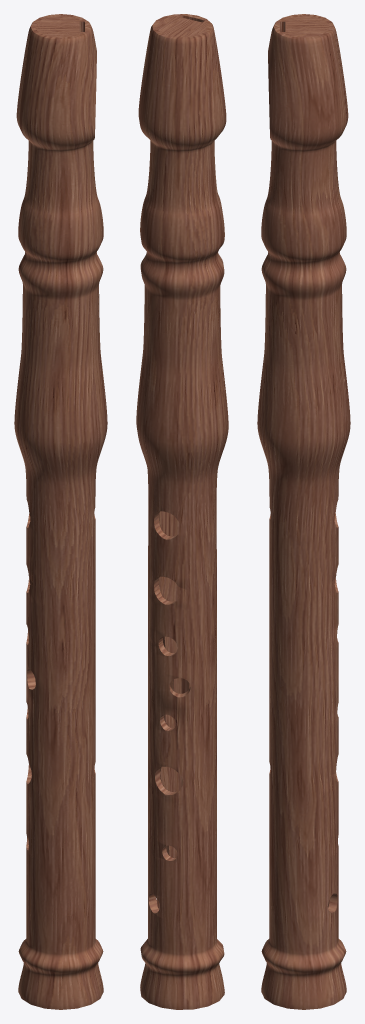
The model's file is lightingsopilka.gltf.
The picture shows the model from 3 angles, left to right: view 1: azimuth 90°, elevation 25°; view 2: azimuth 150°, elevation 25°; view 3: azimuth 270°, elevation 25°; orthographic projection.
Parts seen in each view (by area): view 1: Sopilka; view 2: Sopilka; view 3: Sopilka.
Boxes of the visible parts, x1=… form: Sopilka: x1=14, y1=14, x2=107, y2=1009; Sopilka: x1=136, y1=14, x2=228, y2=1009; Sopilka: x1=257, y1=14, x2=350, y2=1009.
Size of the model in its own units: 0.3948 by 4.52 by 0.3948.
1 material, 1 textured.
